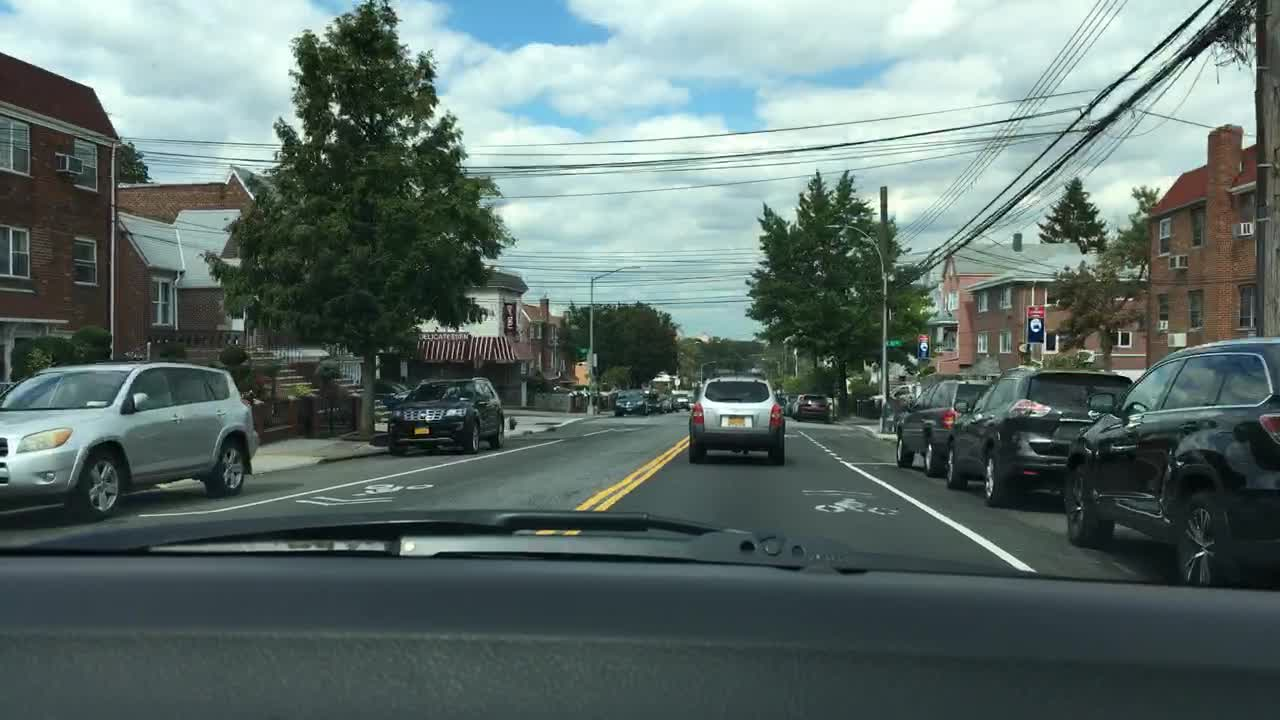car: (0, 358, 259, 518), (1057, 461, 1278, 590), (941, 365, 1136, 503), (383, 372, 507, 454), (892, 378, 993, 476), (690, 378, 788, 464), (791, 393, 830, 422), (615, 386, 649, 419), (650, 390, 674, 415), (782, 393, 800, 418), (672, 393, 691, 411)
traffic sign: (1026, 305, 1044, 343), (918, 334, 930, 358), (591, 351, 599, 366), (887, 339, 901, 346), (674, 376, 682, 386)
